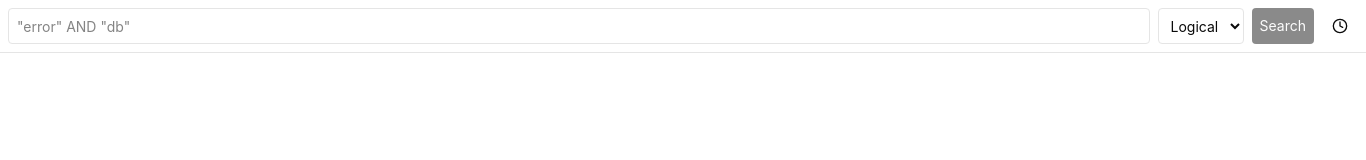
Test: SearchBar › search history › selecting a suggestion applies the entry and immediately re-runs the search (FR-018)
Click the dropdown named "Search query". click: (579, 26)
box: [8,8,1150,44]
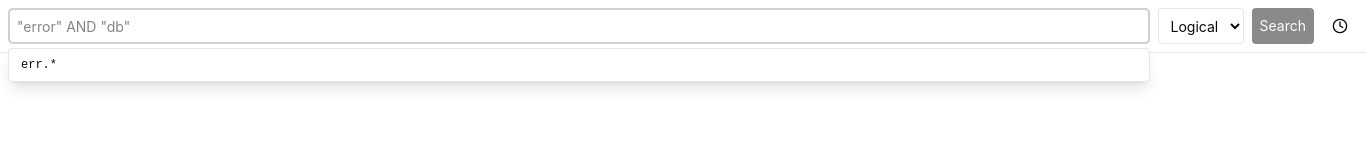
Click the option "err.*". click: (39, 65)
box: [13,53,1144,77]
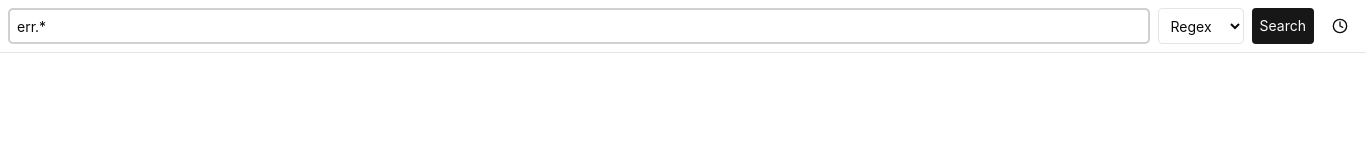
Expected: the dropdown named "Search query" holds "err.*", [8,8,1150,44]
